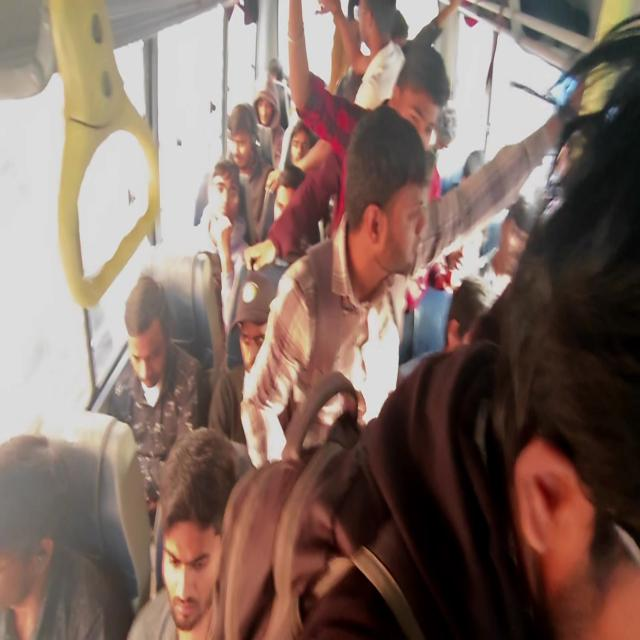person: (212, 20, 639, 638), (246, 1, 583, 292), (492, 17, 639, 638), (239, 104, 434, 468), (108, 273, 210, 526), (126, 426, 242, 638), (0, 432, 113, 639), (207, 267, 278, 451), (226, 102, 276, 245), (197, 158, 250, 284), (444, 276, 490, 352)
